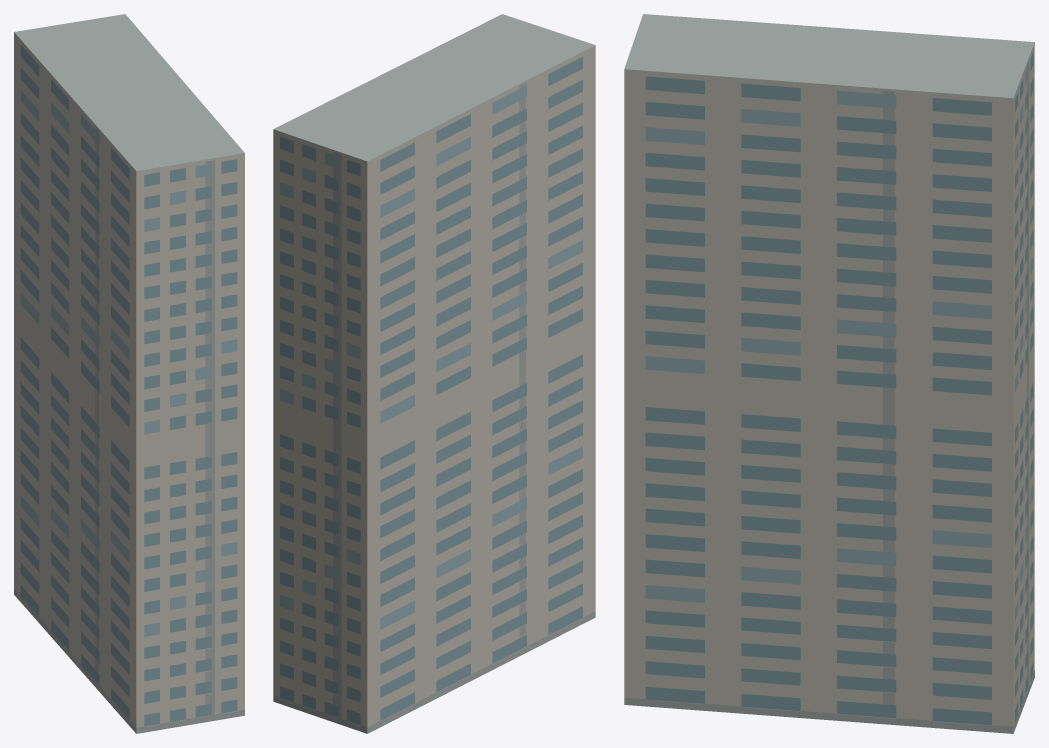
File: residential-d7805091-5f8b-46ad-9473-1fbc755f4a6e.glb
3 renders of one model, left to right at view 1: azimuth 30°, elevation 25°; view 2: azimuth 150°, elevation 25°; view 3: azimuth 270°, elevation 25°, orthographic. The views are drawn at different scales.
Parts seen in each view (by area): view 1: residential-d7805091-5f8b-46ad-9473-1fbc755f4a6e.tmp; view 2: residential-d7805091-5f8b-46ad-9473-1fbc755f4a6e.tmp; view 3: residential-d7805091-5f8b-46ad-9473-1fbc755f4a6e.tmp.
Part boxes in pixels (box(x1,y1,x2,y2)): residential-d7805091-5f8b-46ad-9473-1fbc755f4a6e.tmp: box(14, 14, 244, 733); residential-d7805091-5f8b-46ad-9473-1fbc755f4a6e.tmp: box(273, 14, 595, 733); residential-d7805091-5f8b-46ad-9473-1fbc755f4a6e.tmp: box(624, 14, 1034, 733).
Bounding box in the file's own units: 19.91 × 70 × 40.99.
